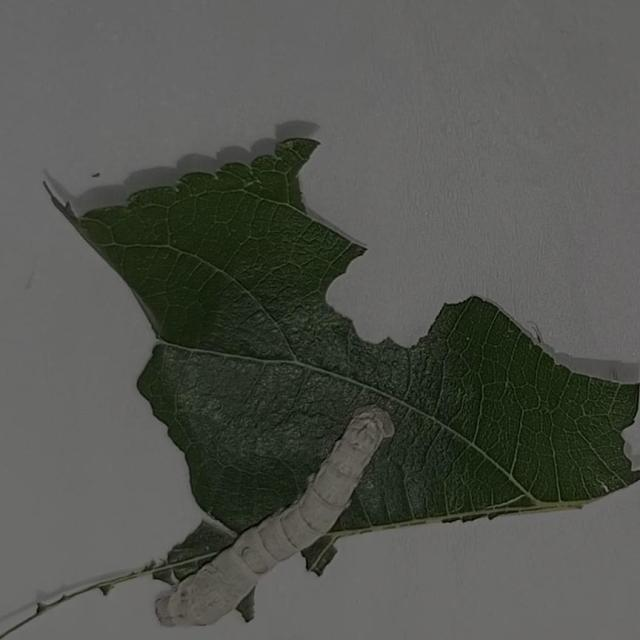Healthy: (146, 396, 400, 636)
